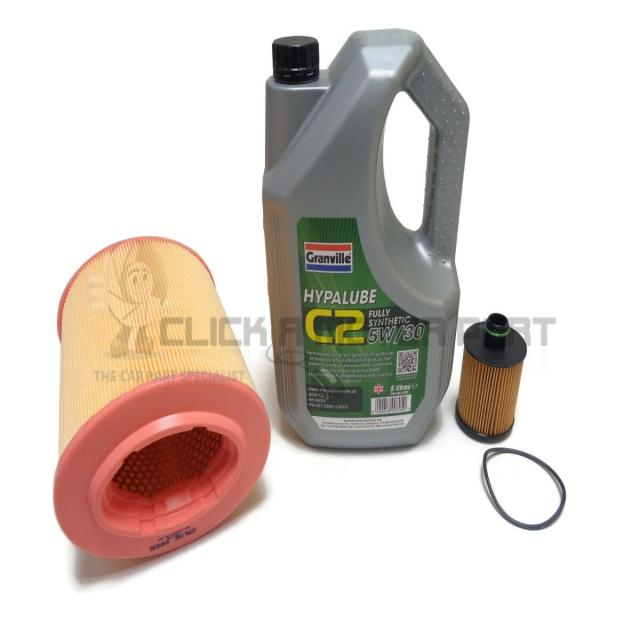air_filter: (50, 227, 266, 569)
motor_oil: (259, 27, 462, 453)
oil_filter: (458, 304, 540, 444)
